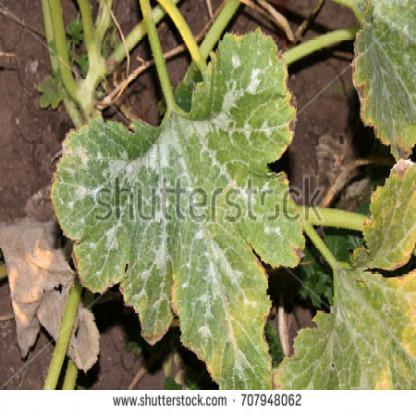Squash Powdery mildew leaf: (43, 20, 310, 390)
